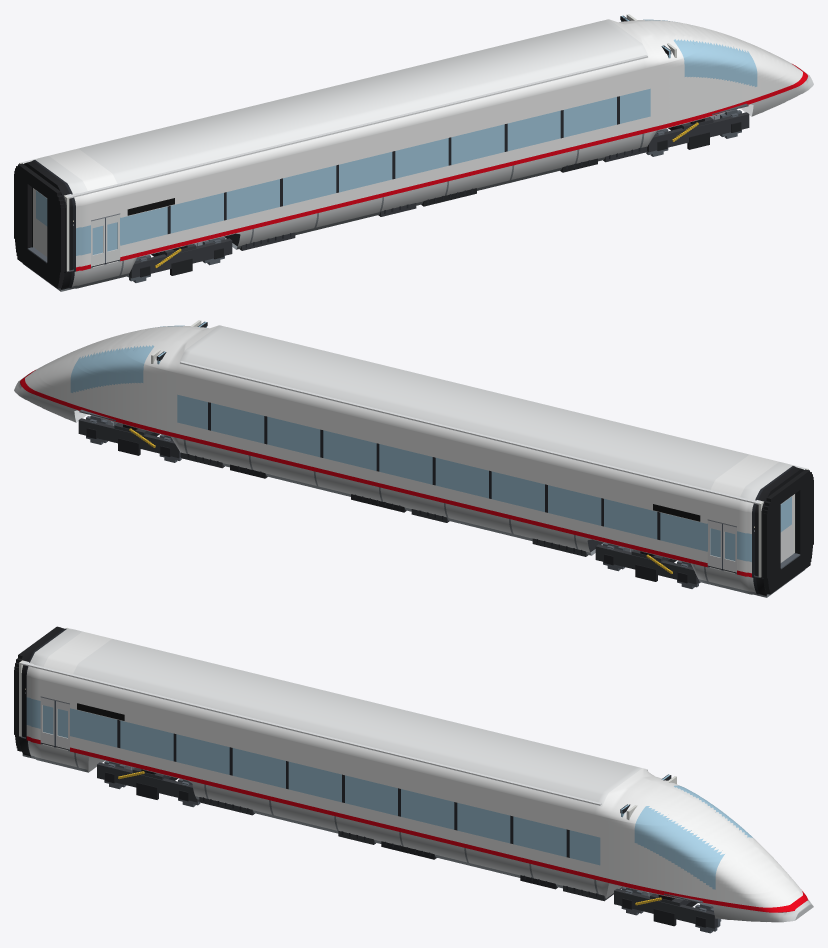
The model's file is ice3_front.obj.
3 renders of one model, top to bottom at view 1: azimuth 30°, elevation 25°; view 2: azimuth 150°, elevation 25°; view 3: azimuth 330°, elevation 25°, orthographic.
Visible parts, largest first — view 1: SHELL, SHELL_diaphragm, SHELL_ceiling, BOGEY_REAR, BOGEY_FRONT, FRAME, CONNECTING_DOOR_1_CG_CR_TOGGLE_TL_0.98_Z, EXTERNAL_DOOR_3_CG_DR1_TOGGLE_TL_-0.44_X, EXTERNAL_DOOR_4_CG_DR1_TOGGLE_TL_0.44_X; view 2: SHELL, SHELL_diaphragm, SHELL_ceiling, BOGEY_REAR, BOGEY_FRONT, FRAME, CONNECTING_DOOR_1_CG_CR_TOGGLE_TL_0.98_Z, EXTERNAL_DOOR_6_CG_DL1_TOGGLE_TL_-0.44_X, EXTERNAL_DOOR_7_CG_DL1_TOGGLE_TL_0.44_X; view 3: SHELL, BOGEY_FRONT, SHELL_ceiling, BOGEY_REAR, FRAME, EXTERNAL_DOOR_3_CG_DR1_TOGGLE_TL_-0.44_X, EXTERNAL_DOOR_4_CG_DR1_TOGGLE_TL_0.44_X.
Part boxes in pixels (x1,y1,x2,y2): SHELL: (22,19,813,291); SHELL_diaphragm: (14,163,65,288); SHELL_ceiling: (21,27,647,198); BOGEY_REAR: (129,238,232,278); BOGEY_FRONT: (647,112,749,152); FRAME: (91,146,646,267); CONNECTING_DOOR_1_CG_CR_TOGGLE_TL_0.98_Z: (34,189,47,256); EXTERNAL_DOOR_3_CG_DR1_TOGGLE_TL_-0.44_X: (91,218,105,266); EXTERNAL_DOOR_4_CG_DR1_TOGGLE_TL_0.44_X: (105,214,119,262); SHELL: (14,325,805,597); SHELL_diaphragm: (762,469,813,594); SHELL_ceiling: (180,333,806,504); BOGEY_REAR: (595,544,698,584); BOGEY_FRONT: (78,418,180,458); FRAME: (181,452,736,573); CONNECTING_DOOR_1_CG_CR_TOGGLE_TL_0.98_Z: (780,495,793,562); EXTERNAL_DOOR_6_CG_DL1_TOGGLE_TL_-0.44_X: (722,524,736,572); EXTERNAL_DOOR_7_CG_DL1_TOGGLE_TL_0.44_X: (708,520,722,568); SHELL: (18,627,813,922); BOGEY_FRONT: (614,888,717,928); SHELL_ceiling: (21,628,647,805); BOGEY_REAR: (97,762,199,802); FRAME: (41,742,622,901); EXTERNAL_DOOR_3_CG_DR1_TOGGLE_TL_-0.44_X: (40,697,55,746); EXTERNAL_DOOR_4_CG_DR1_TOGGLE_TL_0.44_X: (55,701,69,749).
Size of the model in its own units: 25.96 by 3.85 by 2.97.
1 material, 1 textured.
